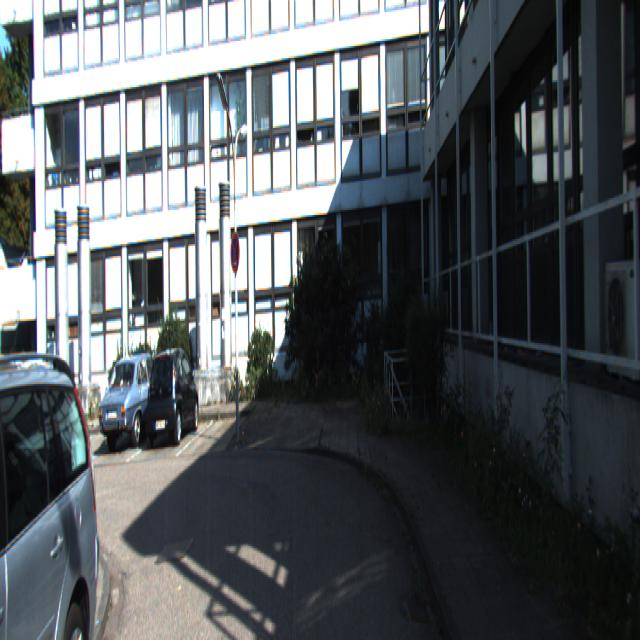Car: (0, 346, 113, 638), (0, 340, 81, 588), (98, 347, 170, 455), (144, 345, 200, 445)
